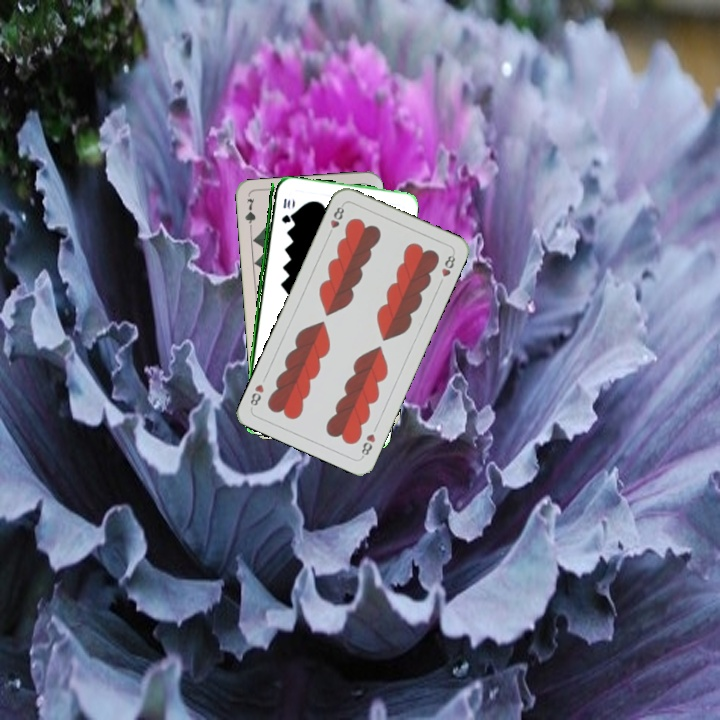G10: (278, 195, 293, 226)
G7: (241, 194, 258, 235)
H8: (324, 200, 347, 239), (357, 430, 378, 460)
